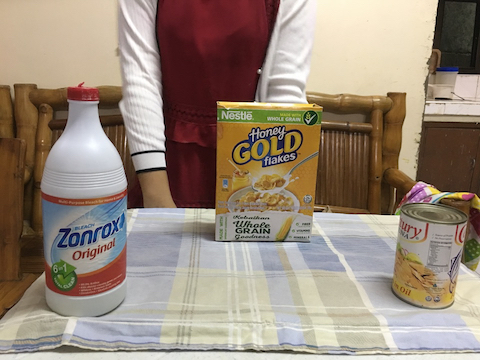bottle: (35, 80, 135, 323)
box: (207, 102, 328, 248)
can: (389, 199, 472, 311)
